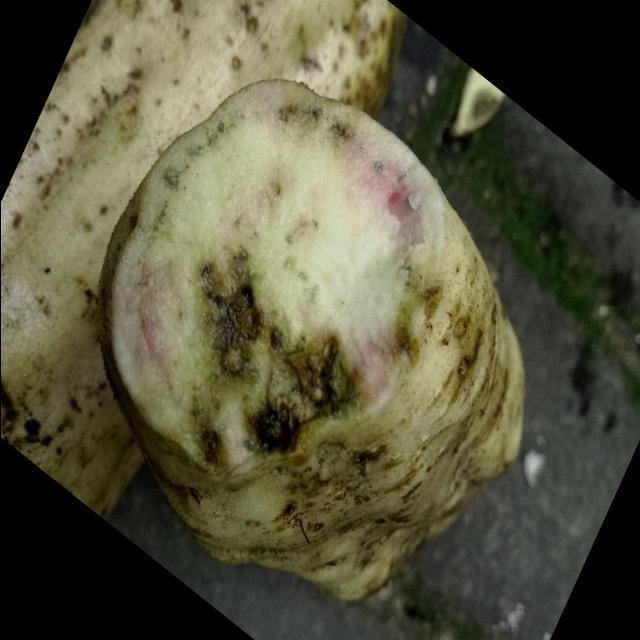Sick Sweet Potato_Tuber Rot: (101, 82, 442, 477)
